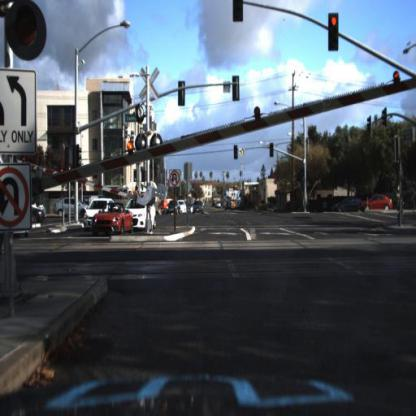car: (93, 200, 135, 236), (51, 197, 94, 224), (129, 201, 159, 233), (334, 193, 368, 218), (360, 192, 394, 215), (82, 199, 106, 230), (362, 191, 392, 215), (328, 197, 365, 215), (24, 207, 47, 226), (30, 207, 45, 230), (165, 201, 180, 218), (191, 199, 205, 217), (227, 196, 239, 216), (31, 202, 49, 215), (177, 199, 187, 220), (165, 199, 177, 214), (221, 196, 229, 213)
pedestrian: (397, 188, 407, 230)
trafficLight: (1, 1, 70, 67), (328, 13, 339, 53), (232, 138, 243, 164), (269, 140, 277, 159)
trafficLight-Green: (299, 165, 307, 187)
trafficLight-Red: (324, 9, 345, 58)
